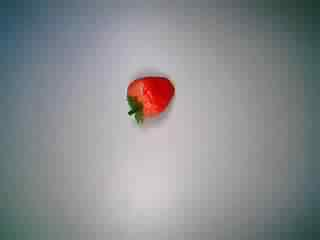strawberry: (111, 67, 177, 133)
